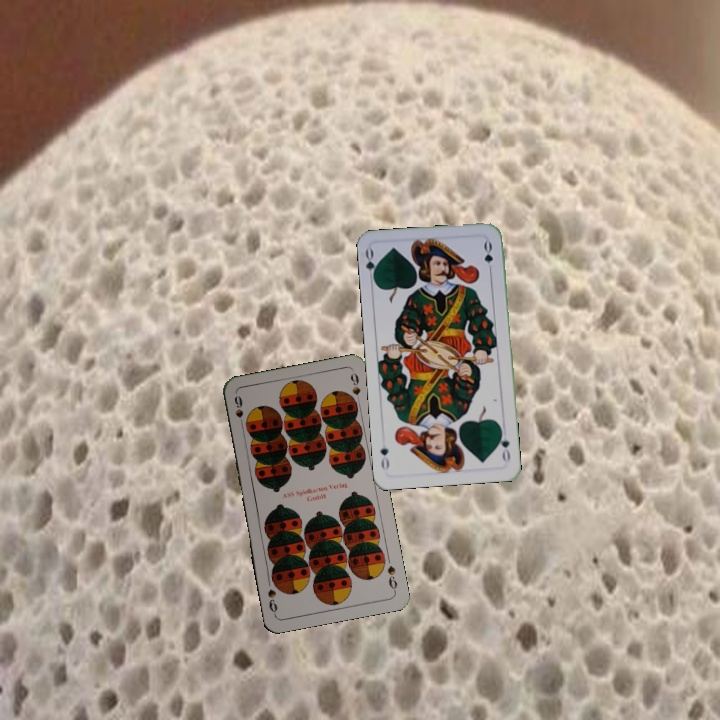GO: (361, 245, 381, 286), (495, 424, 513, 465)
S9: (230, 391, 246, 432), (383, 562, 400, 594)
